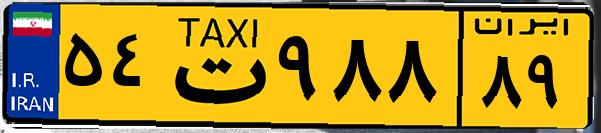4: (110, 28, 158, 98)
5: (57, 26, 110, 100)
8: (385, 28, 445, 110), (330, 28, 385, 110), (475, 38, 525, 113)
9: (270, 28, 330, 110), (525, 38, 570, 115)
ت: (158, 12, 270, 120)
